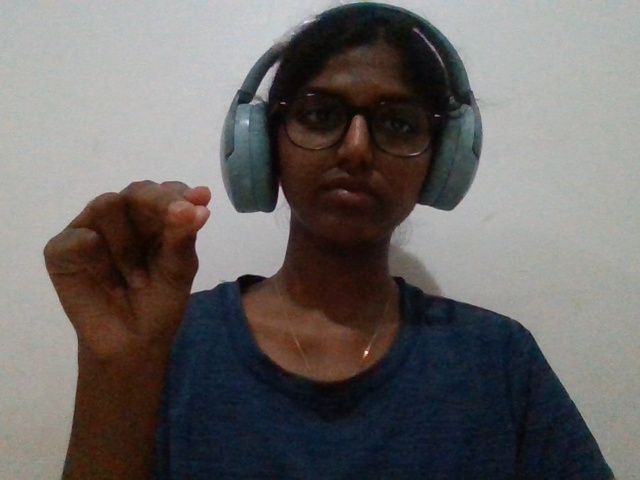No: (20, 155, 223, 415)
